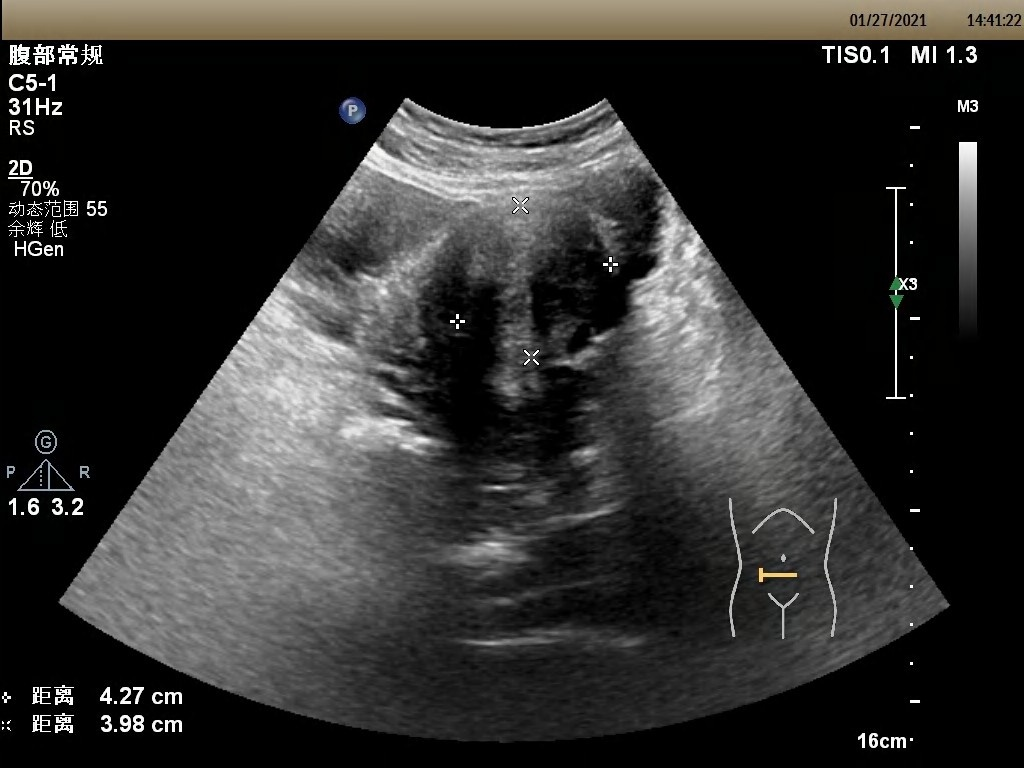肌瘤: (452, 203, 598, 370)
